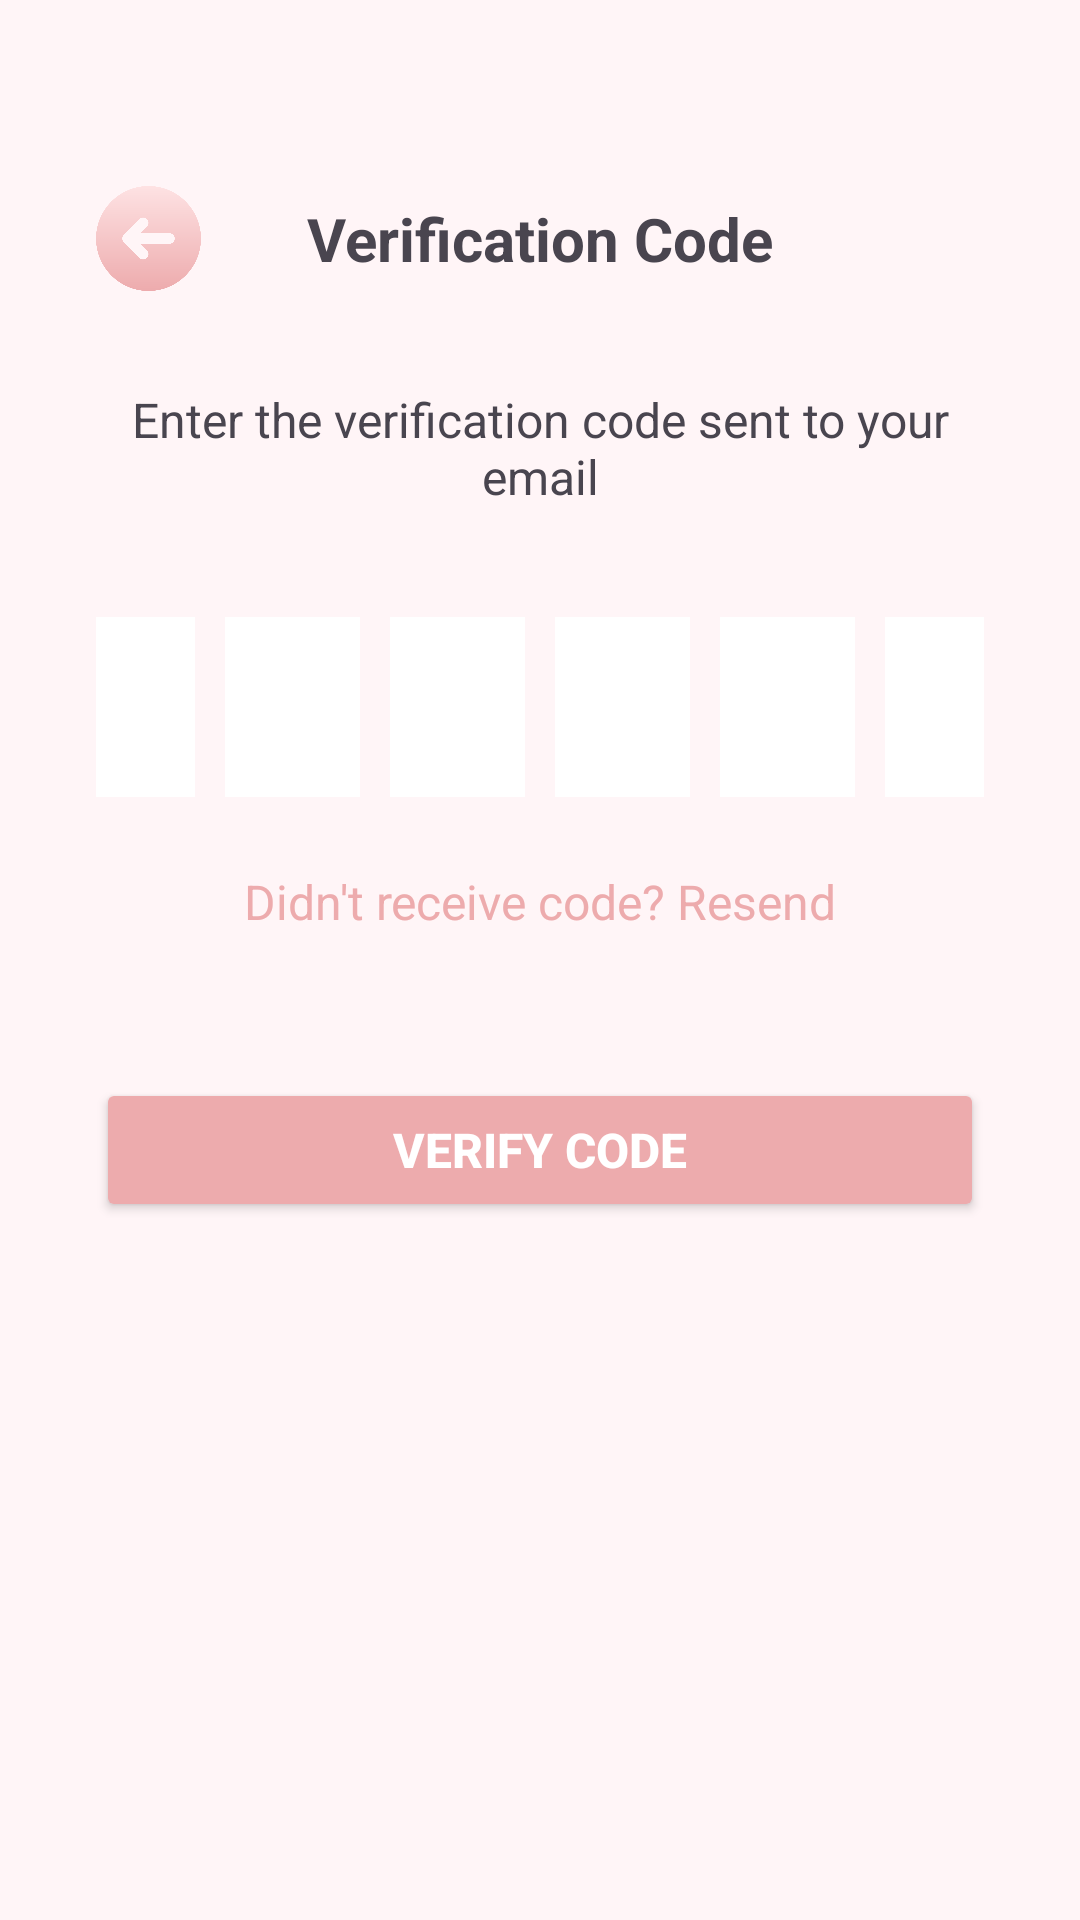

Where icons sit on this 1080px×1920px app screen, as (x1, y1, x2, y2):
Back to previous screen: (96, 195, 201, 291)
